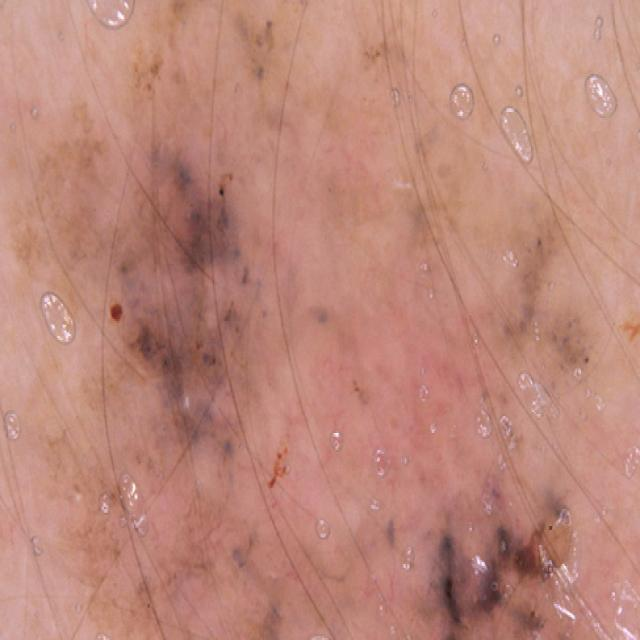Carcinoma: (114, 163, 332, 566), (418, 437, 622, 640)
